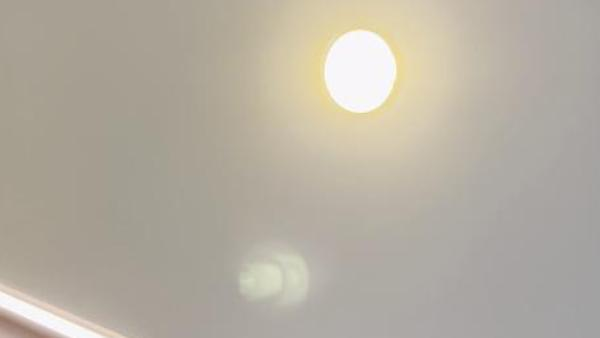light_on: (0, 243, 170, 338), (294, 15, 422, 118)
